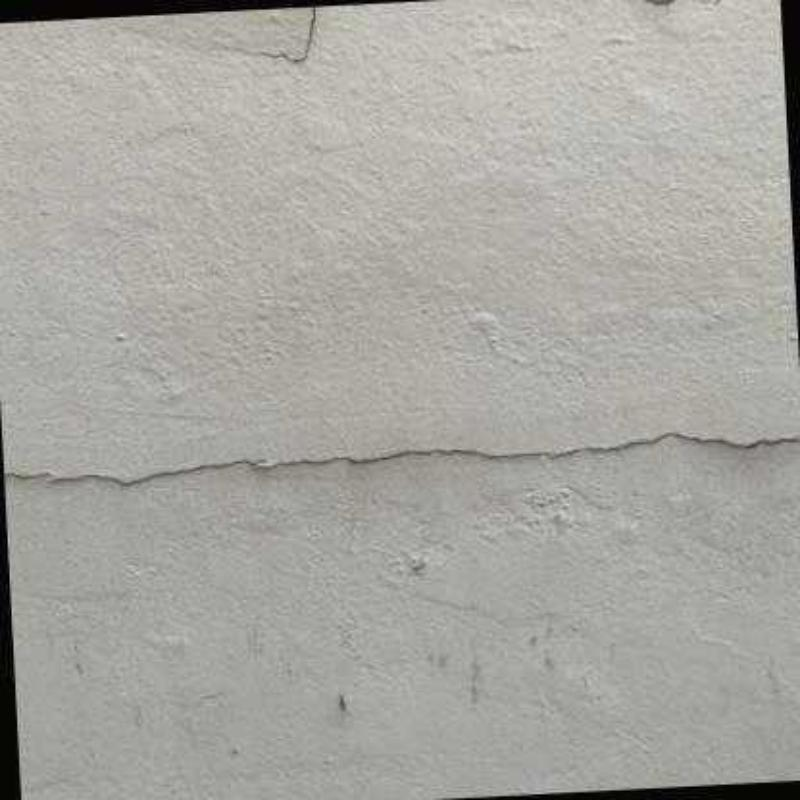pothole: (3, 431, 798, 488), (254, 8, 319, 63)
